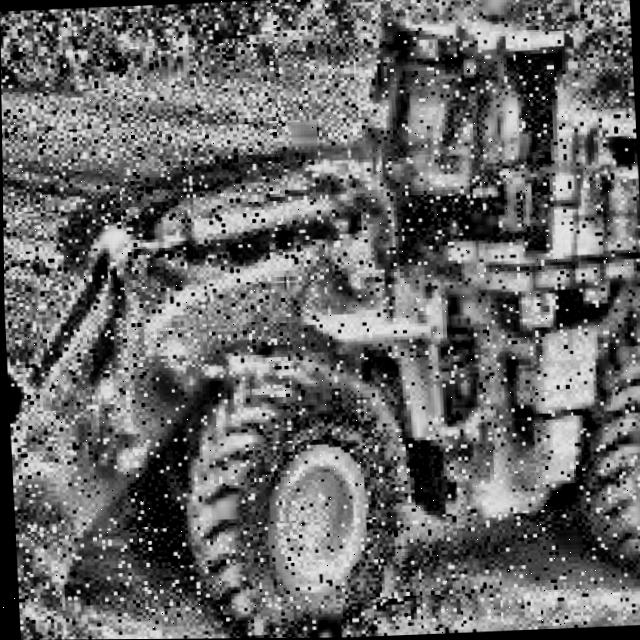buldozerpayloadergrader: (29, 0, 640, 640)
